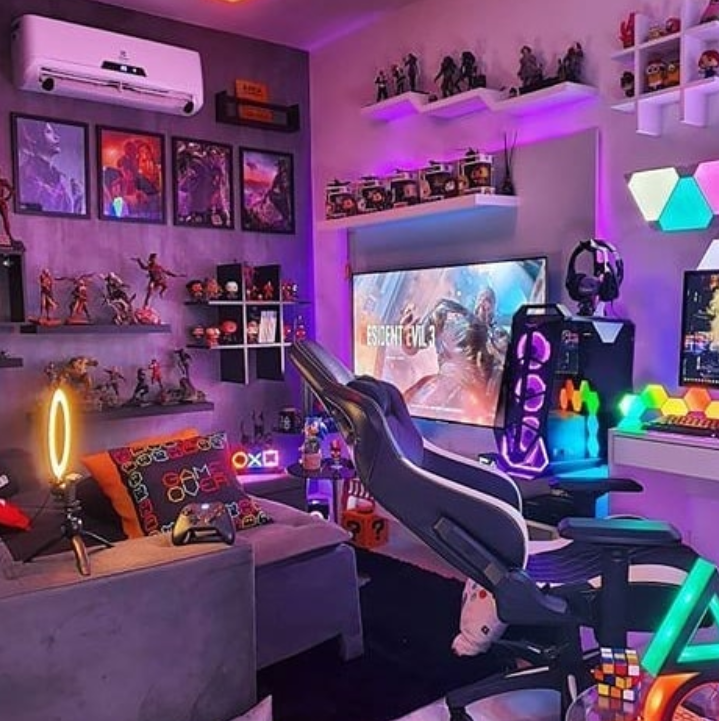gamingconsole: (173, 501, 235, 544)
